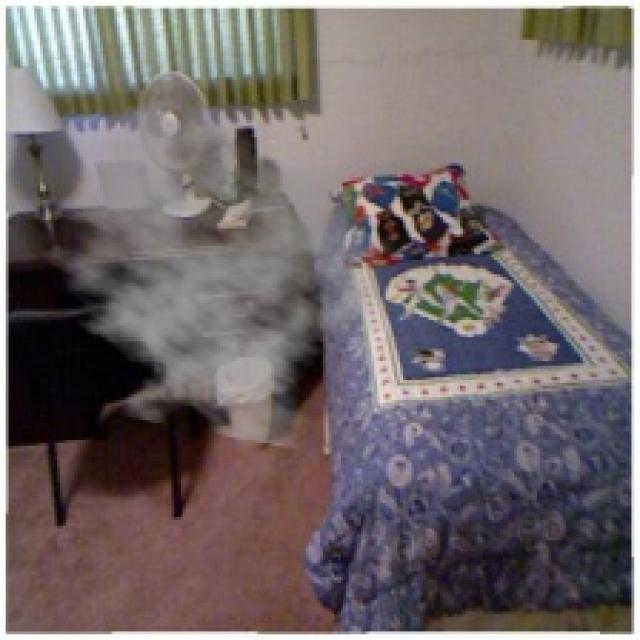smoke: (23, 97, 400, 452)
